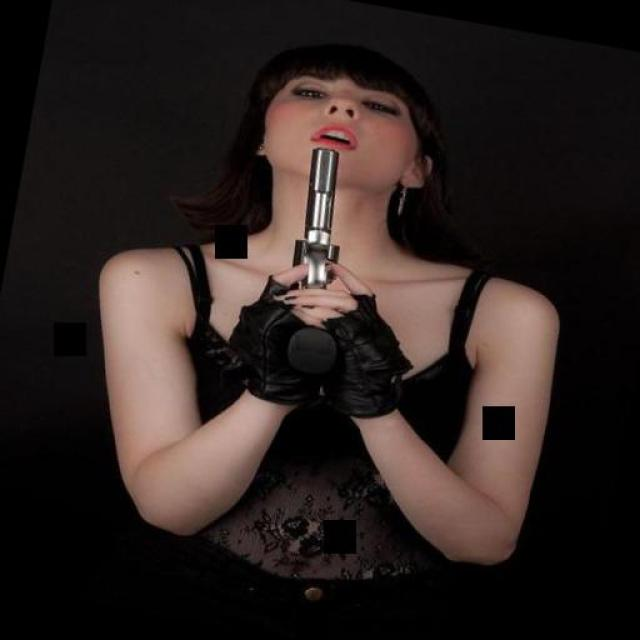gun: (254, 131, 394, 379)
